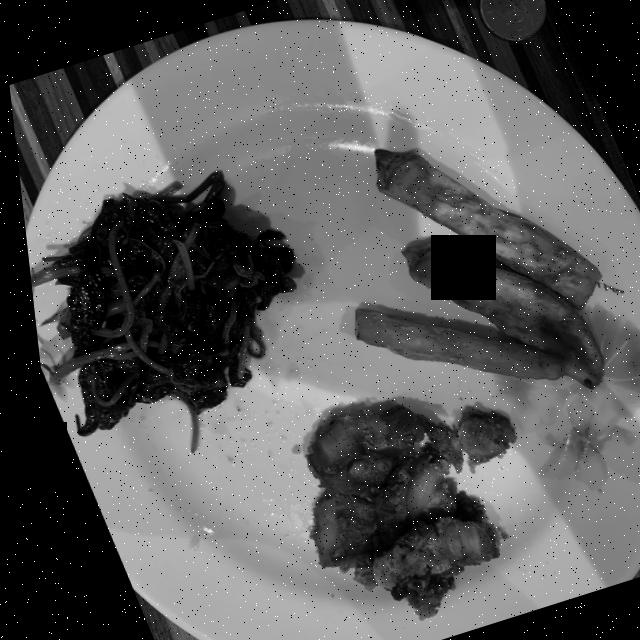coin: (478, 0, 545, 41)
red grilled pork: (295, 403, 505, 618)
sweet potato leaves: (24, 170, 289, 435)
